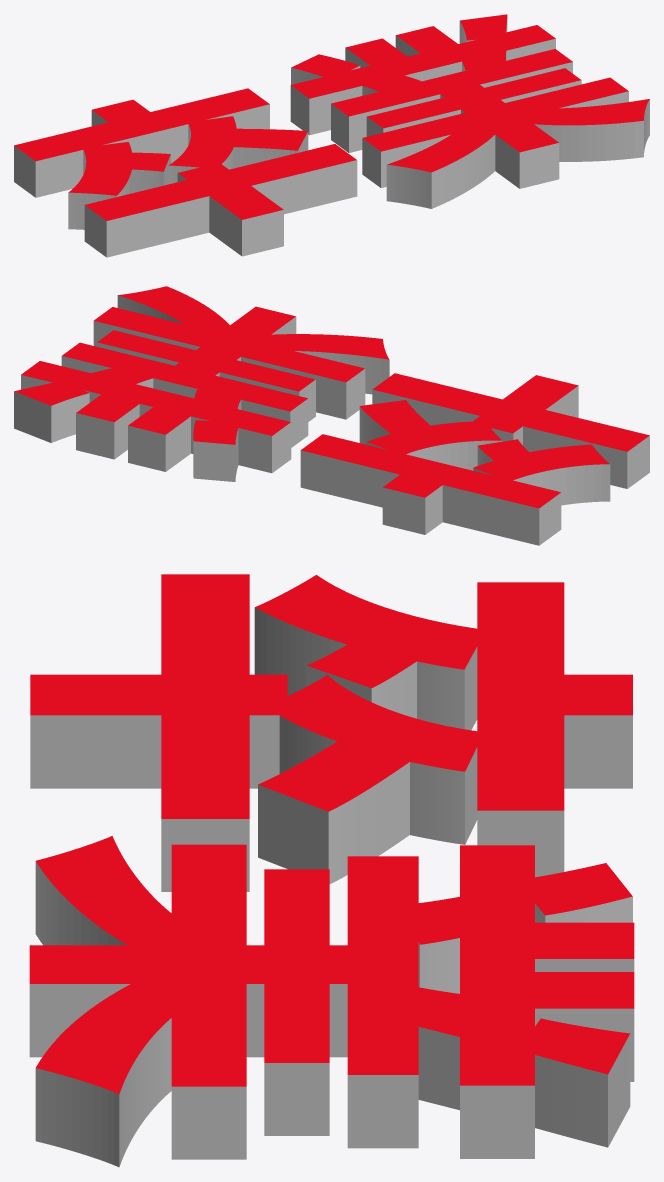
File: Success.fbx
3 views of the same model, one above another, from view 1: azimuth 30°, elevation 25°; view 2: azimuth 150°, elevation 25°; view 3: azimuth 270°, elevation 25° (orthographic). The views are drawn at different scales.
Parts seen in each view (by area): view 1: Success, Success.side; view 2: Success, Success.side; view 3: Success, Success.side.
Boxes of the visible parts, x1,y1,x2,y2 form: Success: [14, 14, 649, 220]; Success.side: [14, 19, 649, 257]; Success: [14, 286, 649, 508]; Success.side: [14, 295, 649, 545]; Success: [29, 574, 634, 1094]; Success.side: [29, 607, 634, 1167].
Bounding box in the file's own units: 67.93 × 4.46 × 33.37.
